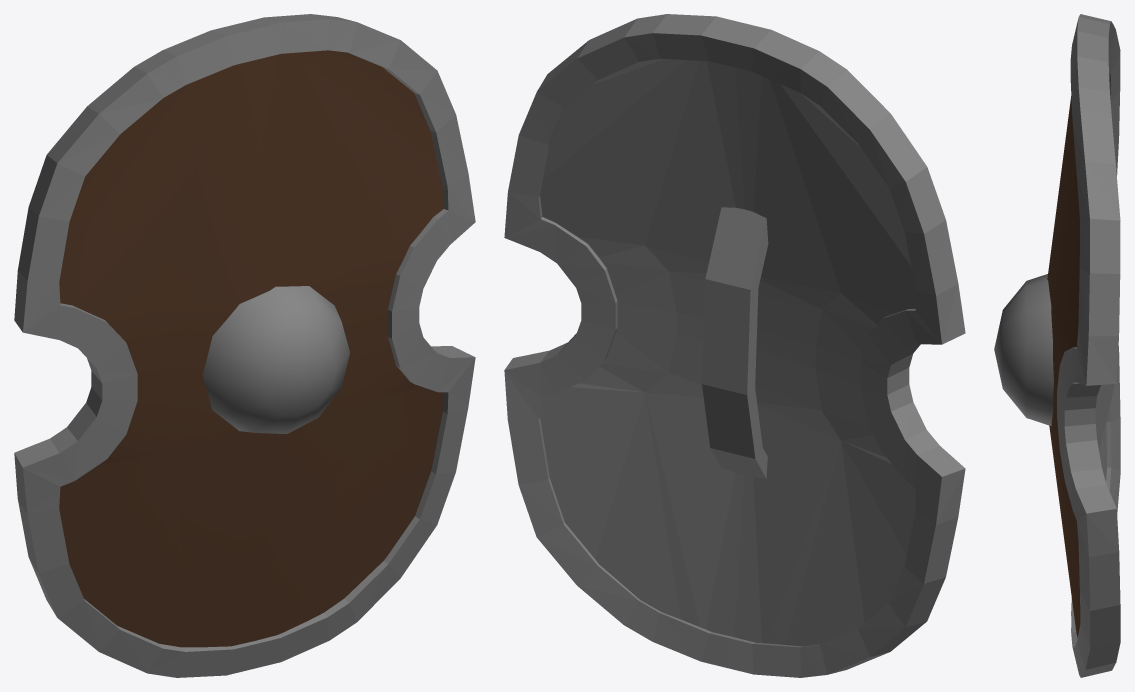
The model's file is SM_shield_persian.fbx.
3 renders of one model, left to right at view 1: azimuth 30°, elevation 25°; view 2: azimuth 150°, elevation 25°; view 3: azimuth 270°, elevation 25°, orthographic. The views are drawn at different scales.
Parts seen in each view (by area): view 1: Object124322; view 2: Object124322; view 3: Object124322.
Boxes of the visible parts, x1,y1,x2,y2 form: Object124322: (14, 14, 475, 677); Object124322: (504, 14, 965, 677); Object124322: (994, 14, 1120, 677).
Size of the model in its own units: 26.28 by 35.47 by 6.74.
